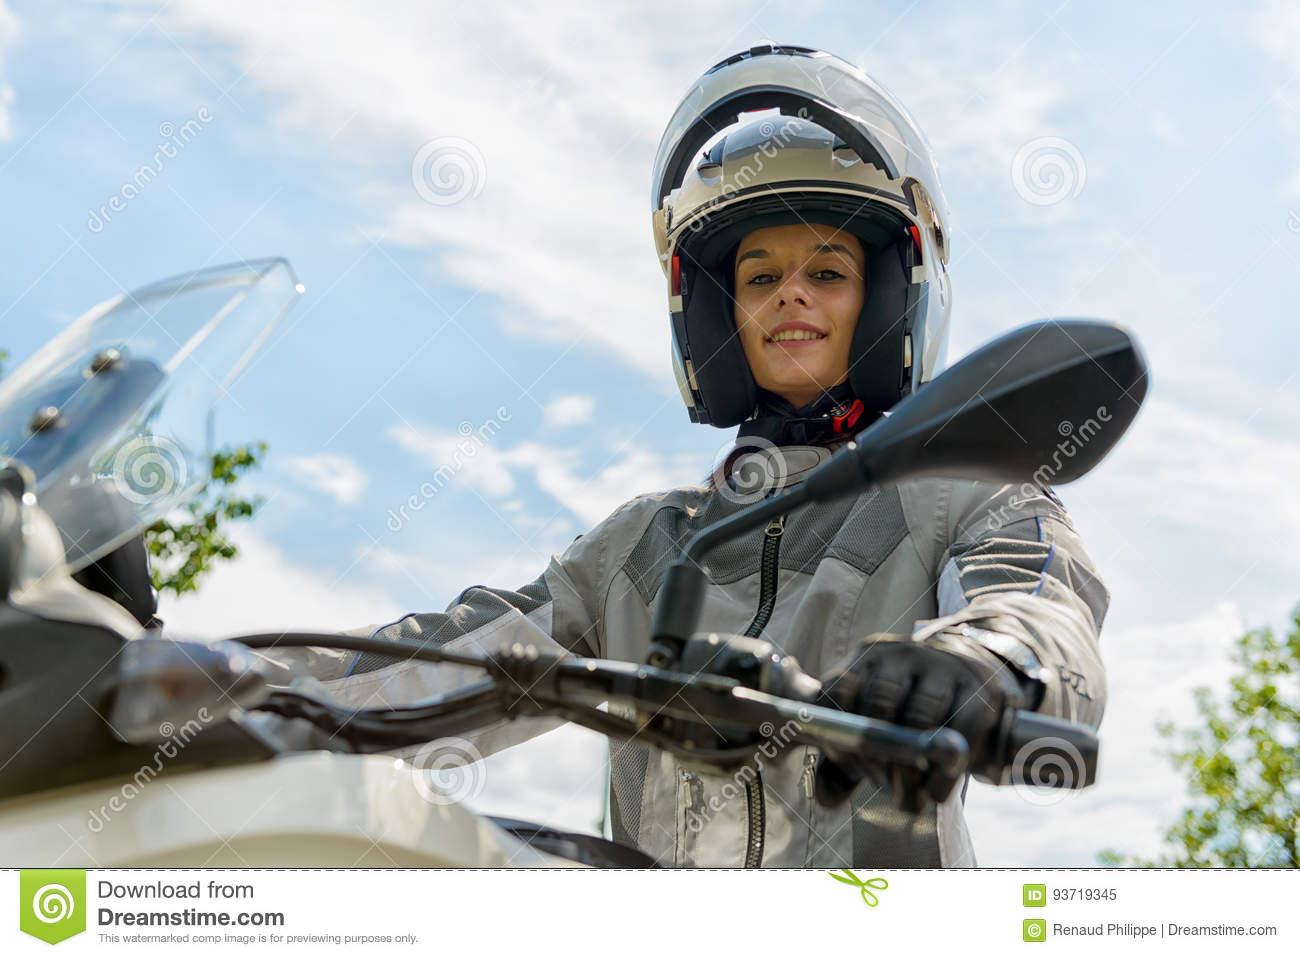helmet: (633, 57, 957, 427)
